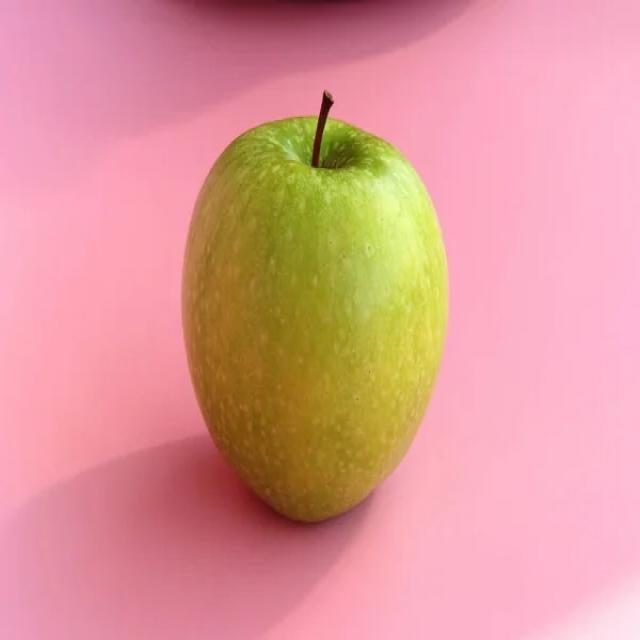Fresh Apple: (150, 97, 467, 538)
